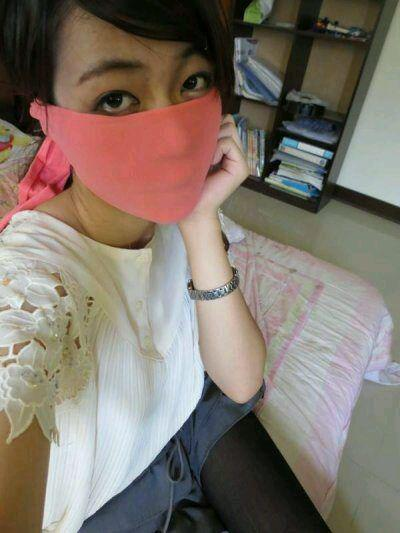OK: (64, 58, 220, 222)
